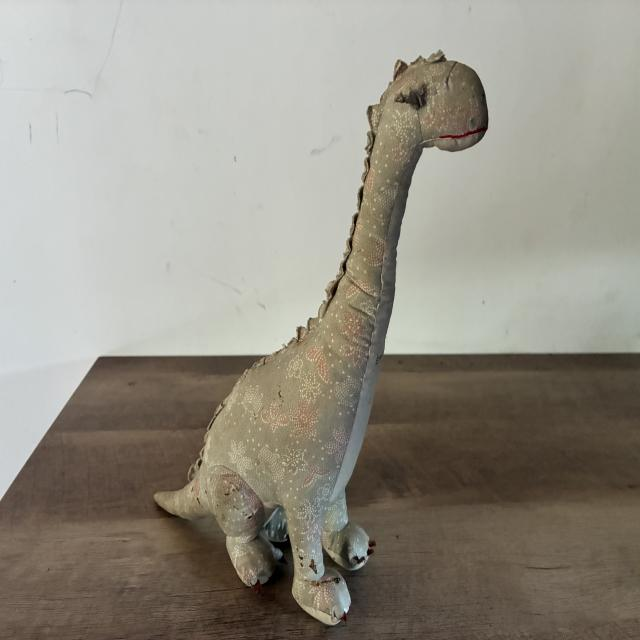dinosaur: (155, 51, 488, 624)
